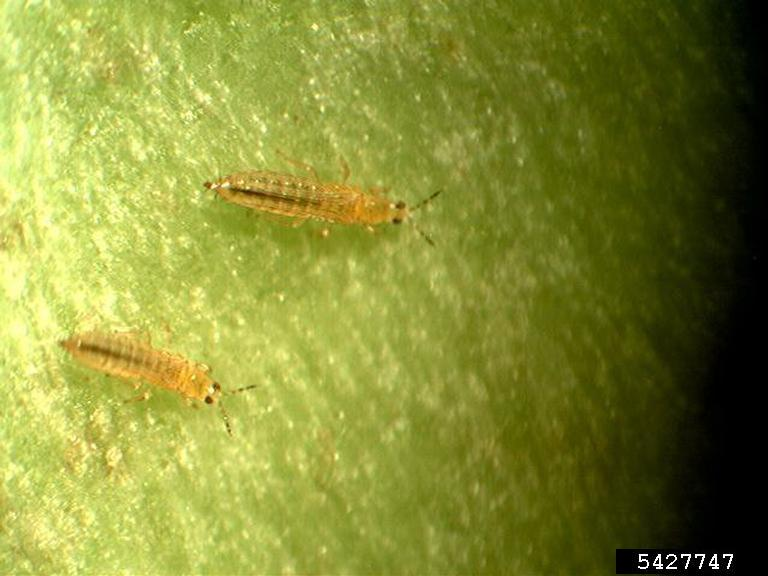Thrips: (198, 135, 451, 269), (53, 308, 262, 465)
